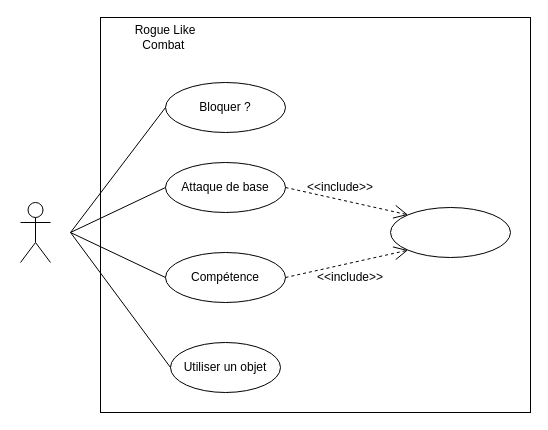
Some shapes in this 548 by 430 pixel diagram are drawn without their labels. Each missing label, with the box of its shape:
Choisir sa cible: (390, 206, 510, 258)
Joueur: (20, 202, 50, 262)
